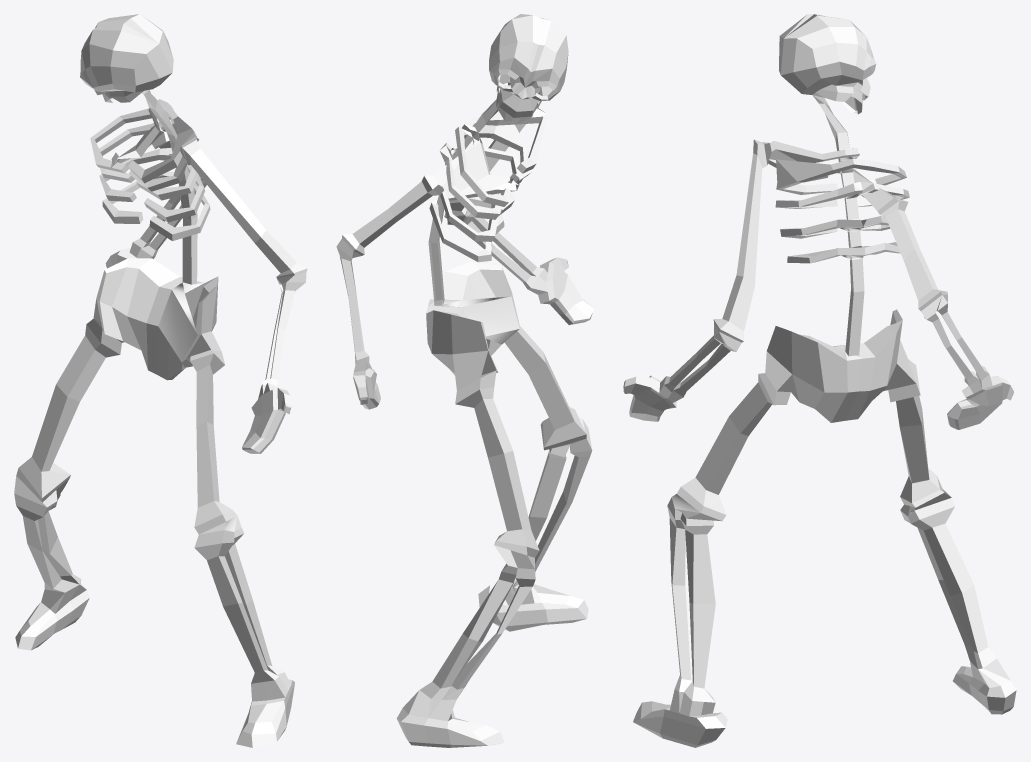
File: SkeletonIdle(66).obj
3 renders of one model, left to right at view 1: azimuth 30°, elevation 25°; view 2: azimuth 150°, elevation 25°; view 3: azimuth 270°, elevation 25°, orthographic. The views are drawn at different scales.
Parts seen in each view (by area): view 1: Object002; view 2: Object002; view 3: Object002.
Part boxes in pixels (x1,y1,x2,y2): Object002: (14,14,307,747); Object002: (336,14,594,747); Object002: (623,14,1016,747).
Size of the model in its own units: 352 by 1129 by 587.
